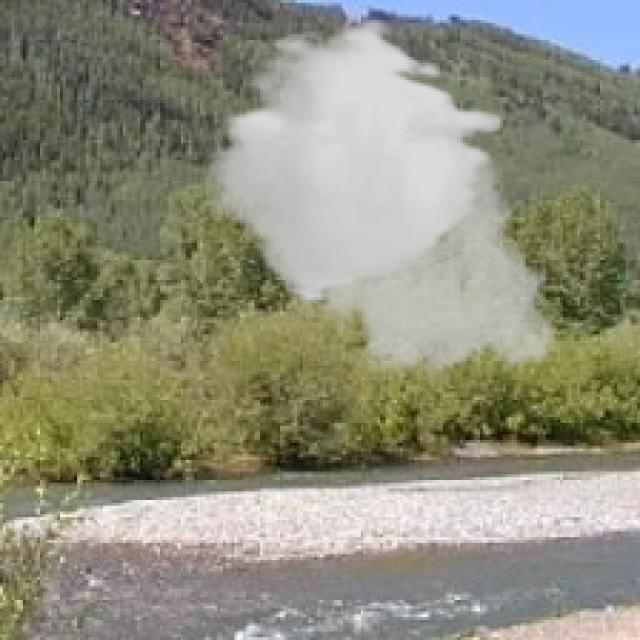smoke: (206, 17, 571, 389)
